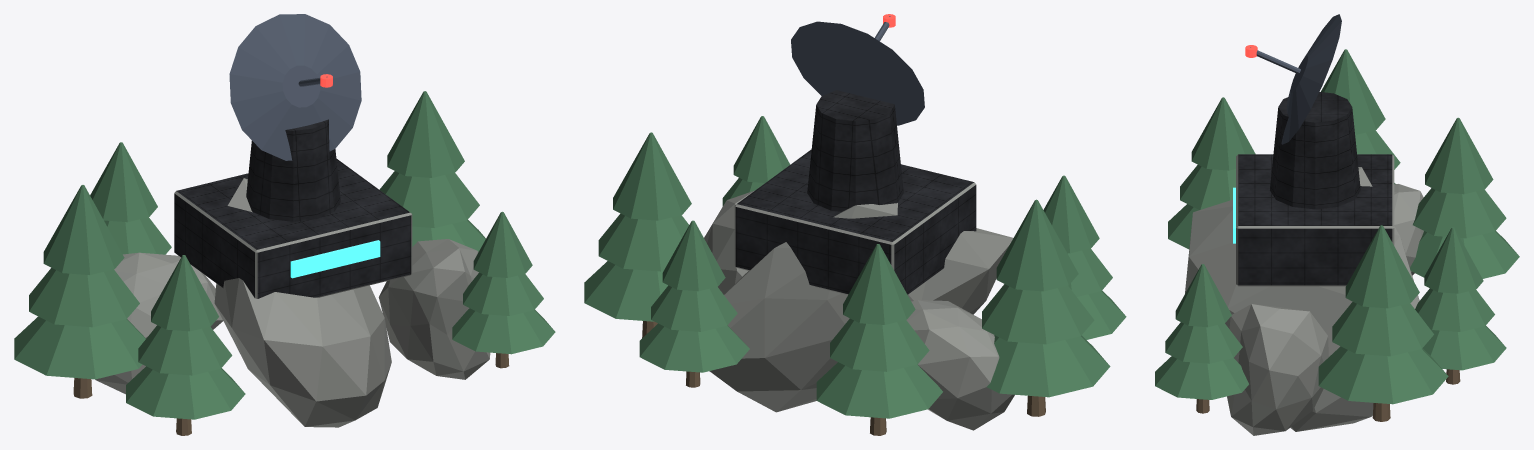
File: mountain_radar_base.glb
The picture shows the model from 3 angles, left to right: view 1: azimuth 30°, elevation 25°; view 2: azimuth 150°, elevation 25°; view 3: azimuth 270°, elevation 25°; orthographic projection. The views are drawn at different scales.
Visible parts, largest first — view 1: MountainRadarBase; view 2: MountainRadarBase; view 3: MountainRadarBase.
Boxes of the visible parts, left/top/right/bottom form: MountainRadarBase: left=14, top=14, right=555, bottom=435; MountainRadarBase: left=584, top=14, right=1126, bottom=435; MountainRadarBase: left=1155, top=14, right=1519, bottom=435.
Size of the model in its own units: 20.87 by 16.27 by 14.29.
Materials: 7 (1 with a texture image).
